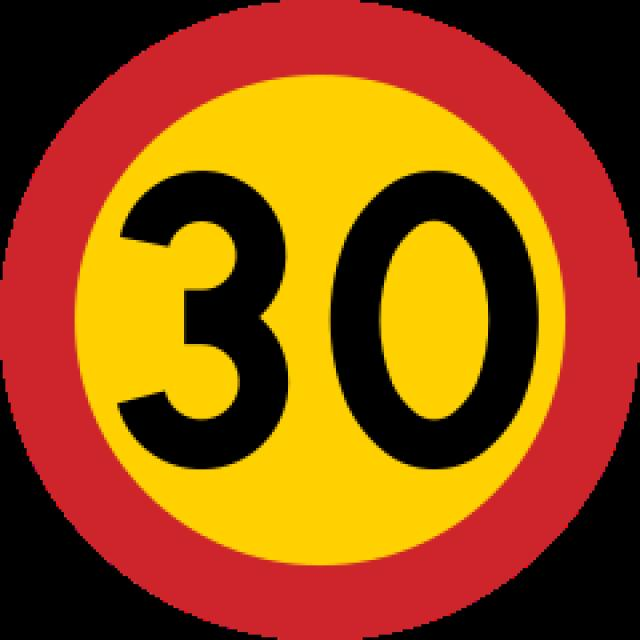Speed Limit -30-: (93, 152, 552, 480)
